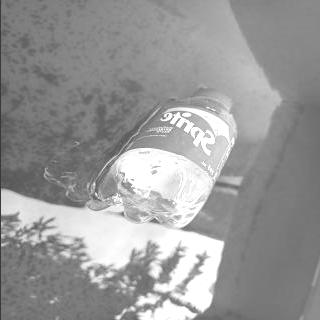bottle: (93, 86, 239, 230)
